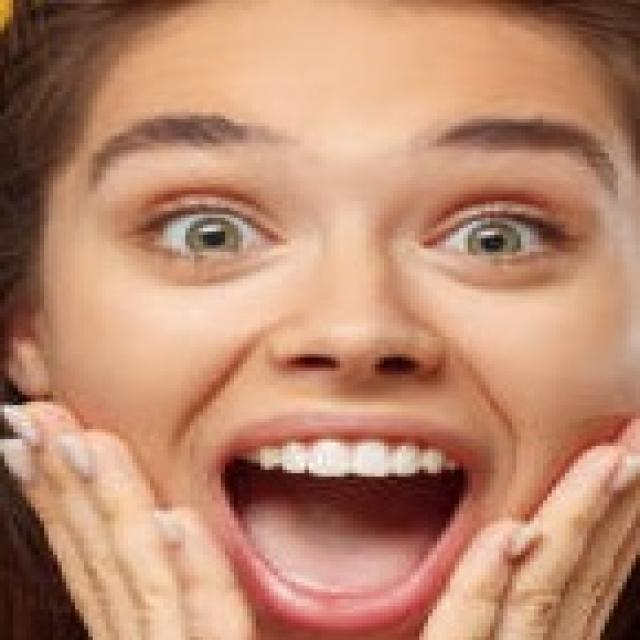Anxiety: (42, 0, 636, 637)
